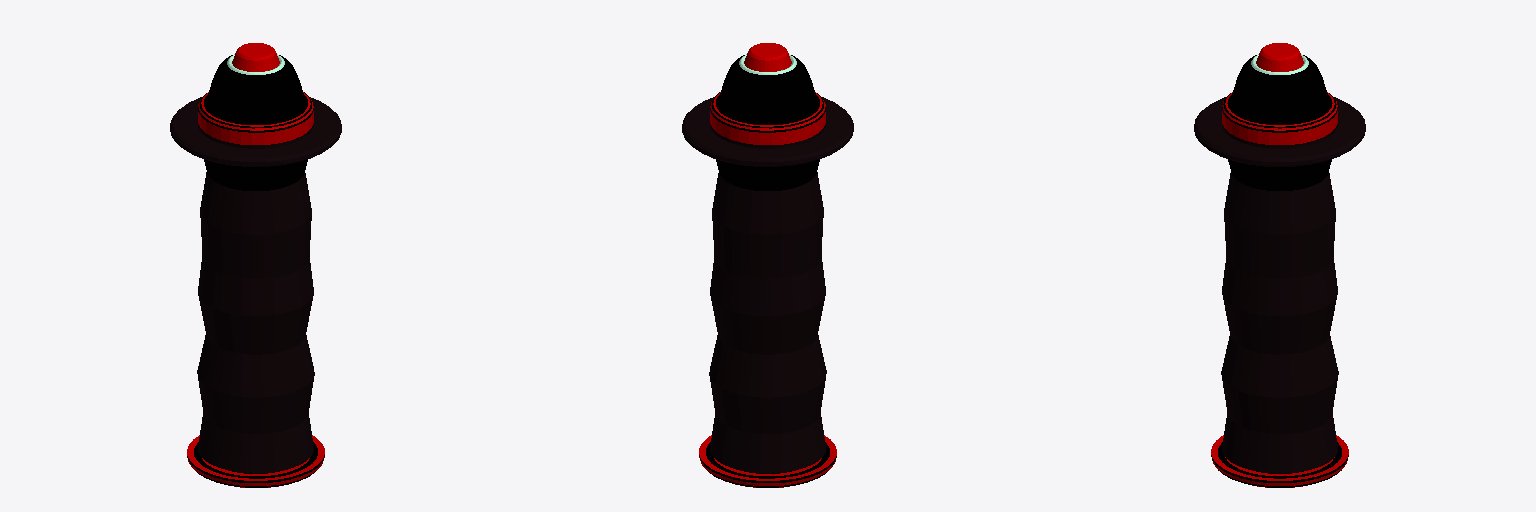
Rendered from mandos.obj.
The picture shows the model from 3 angles: view 1: azimuth 30°, elevation 25°; view 2: azimuth 150°, elevation 25°; view 3: azimuth 270°, elevation 25°; orthographic projection.
Visible parts, largest first — view 1: Círculo; view 2: Círculo; view 3: Círculo.
Boxes of the visible parts, box(x1,y1,x2,y2) form: Círculo: box(170, 43, 341, 487); Círculo: box(682, 43, 853, 487); Círculo: box(1194, 43, 1365, 487).
Bounding box in the file's own units: 0.5532 × 1.46 × 0.5532.